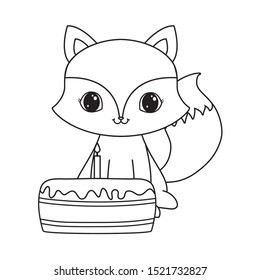animal: (44, 21, 219, 217)
